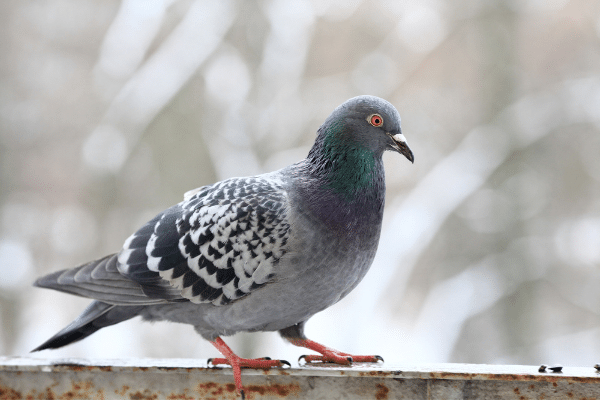Flying Rat: (32, 95, 422, 392)
